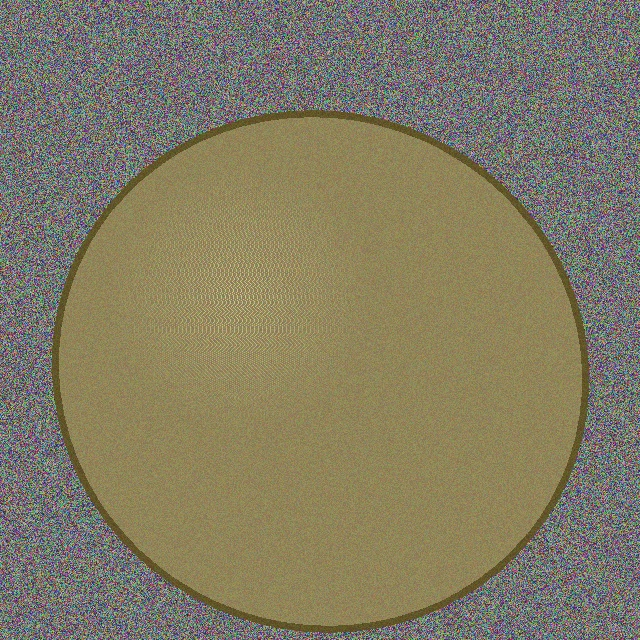lens: (57, 114, 583, 628)
